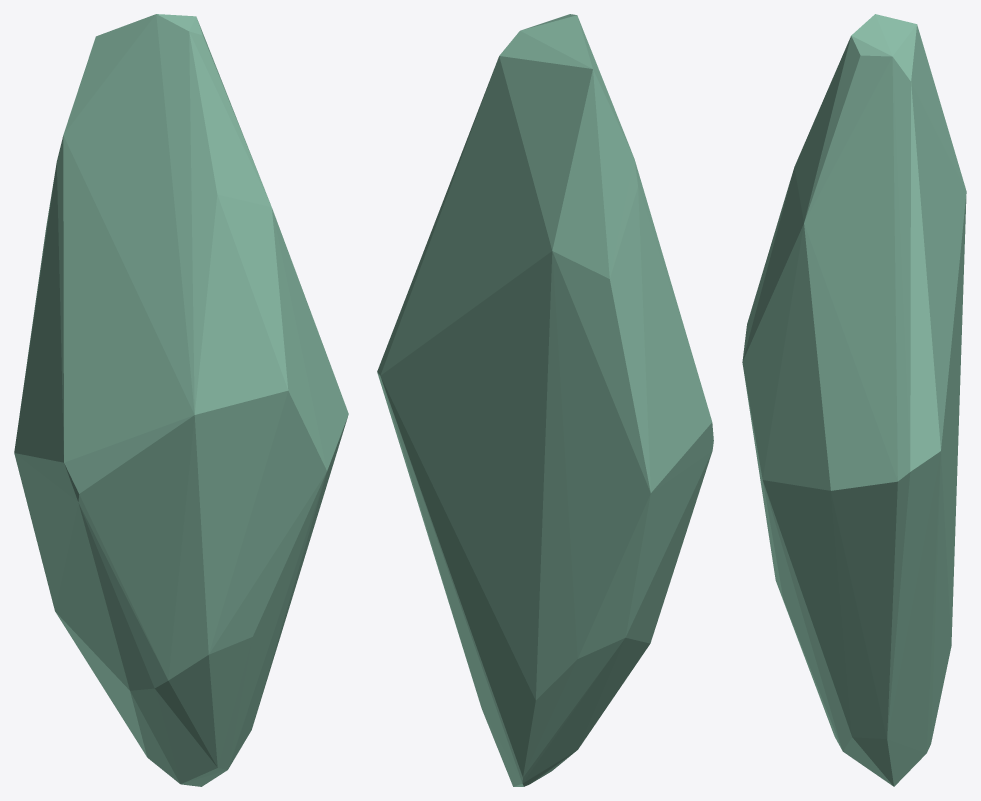
File: food_prepared_croissant_f01.glb
3 renders of one model, left to right at view 1: azimuth 30°, elevation 25°; view 2: azimuth 150°, elevation 25°; view 3: azimuth 270°, elevation 25°, orthographic. The views are drawn at different scales.
Parts seen in each view (by area): view 1: geometry_0; view 2: geometry_0; view 3: geometry_0.
Boxes of the visible parts, x1,y1,x2,y2 form: geometry_0: (14, 14, 348, 786); geometry_0: (377, 14, 713, 786); geometry_0: (742, 14, 966, 786).
Bounding box in the file's own units: 0.1898 × 0.4775 × 0.1298.
